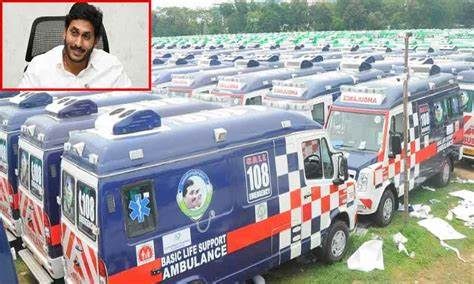ambulance: (63, 125, 373, 283), (321, 80, 463, 211)
